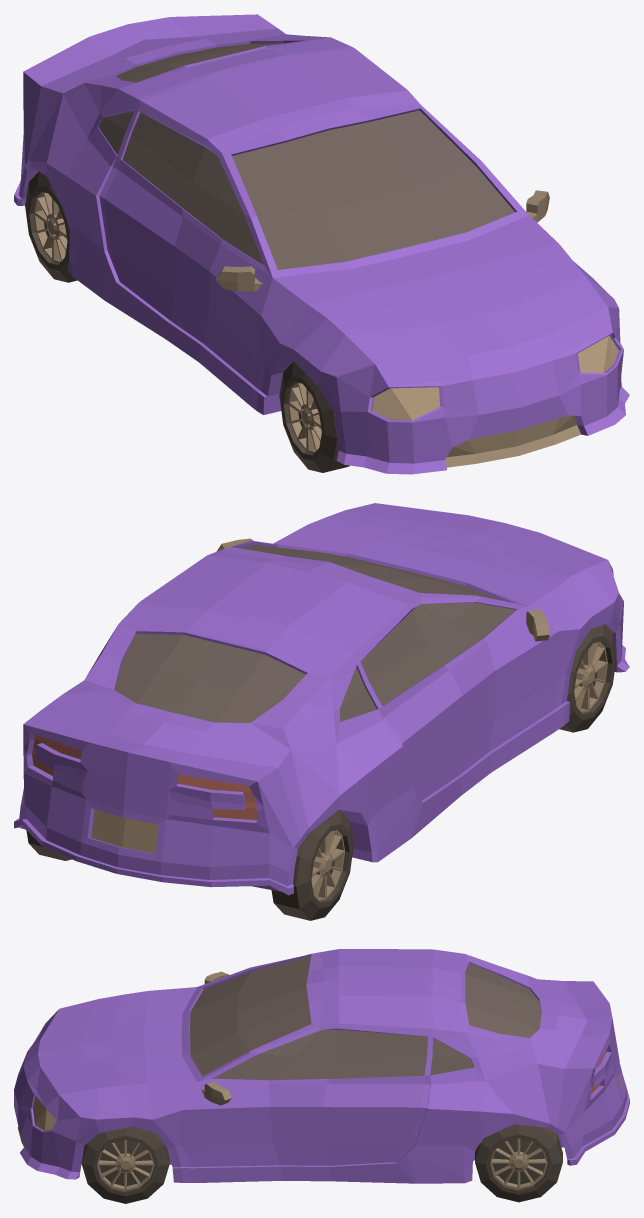
The model's file is veh_car.glb.
3 views of the same model, one above another, from view 1: azimuth 30°, elevation 25°; view 2: azimuth 150°, elevation 25°; view 3: azimuth 270°, elevation 25° (orthographic). The views are drawn at different scales.
Parts seen in each view (by area): view 1: SportsCar2_Cube.006; view 2: SportsCar2_Cube.006; view 3: SportsCar2_Cube.006.
Boxes of the visible parts, x1=… form: SportsCar2_Cube.006: x1=14, y1=14, x2=629, y2=474; SportsCar2_Cube.006: x1=14, y1=503, x2=629, y2=920; SportsCar2_Cube.006: x1=14, y1=949, x2=629, y2=1203.
Bounding box in the file's own units: 1.81 × 1.16 × 3.8.
